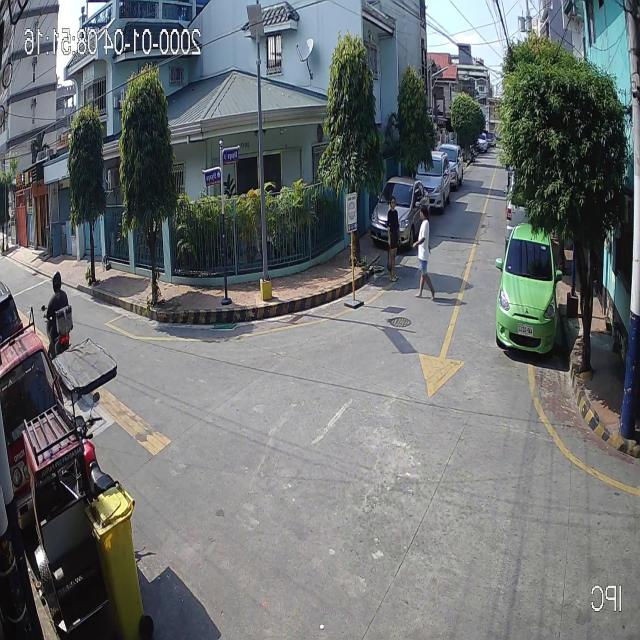standing: (386, 195, 402, 282)
walking: (412, 205, 436, 301)
